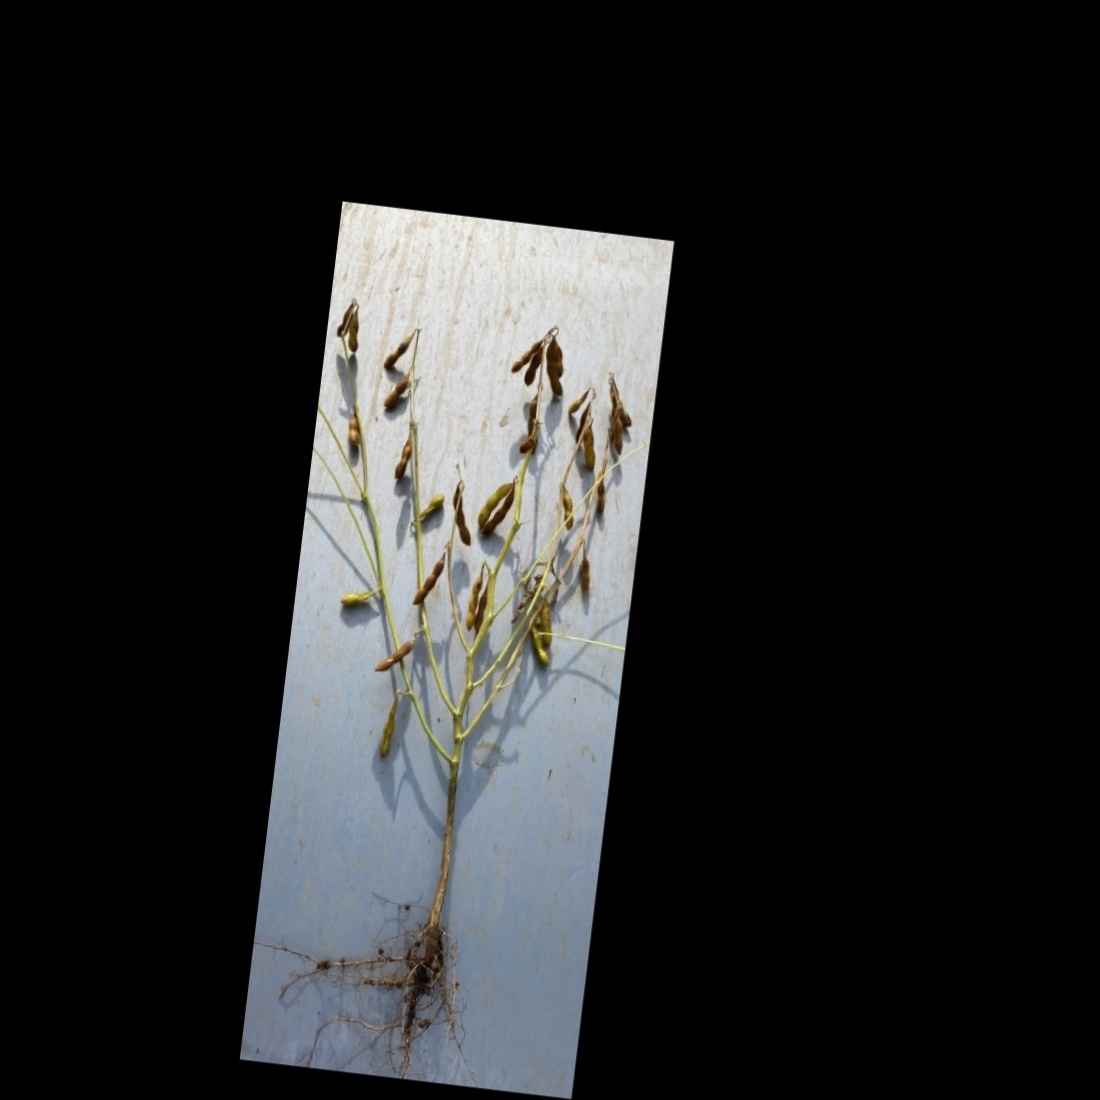pod: (439, 474, 484, 557), (469, 475, 519, 540), (479, 476, 524, 547), (371, 689, 404, 761), (507, 329, 547, 383), (409, 555, 447, 609), (576, 416, 606, 479), (379, 325, 415, 376), (369, 636, 415, 675), (516, 339, 548, 395), (391, 429, 422, 486), (378, 375, 412, 414), (573, 545, 598, 598), (461, 579, 484, 633), (555, 488, 578, 533), (589, 478, 609, 524), (337, 416, 360, 449)
soy: (256, 250, 655, 1041)
